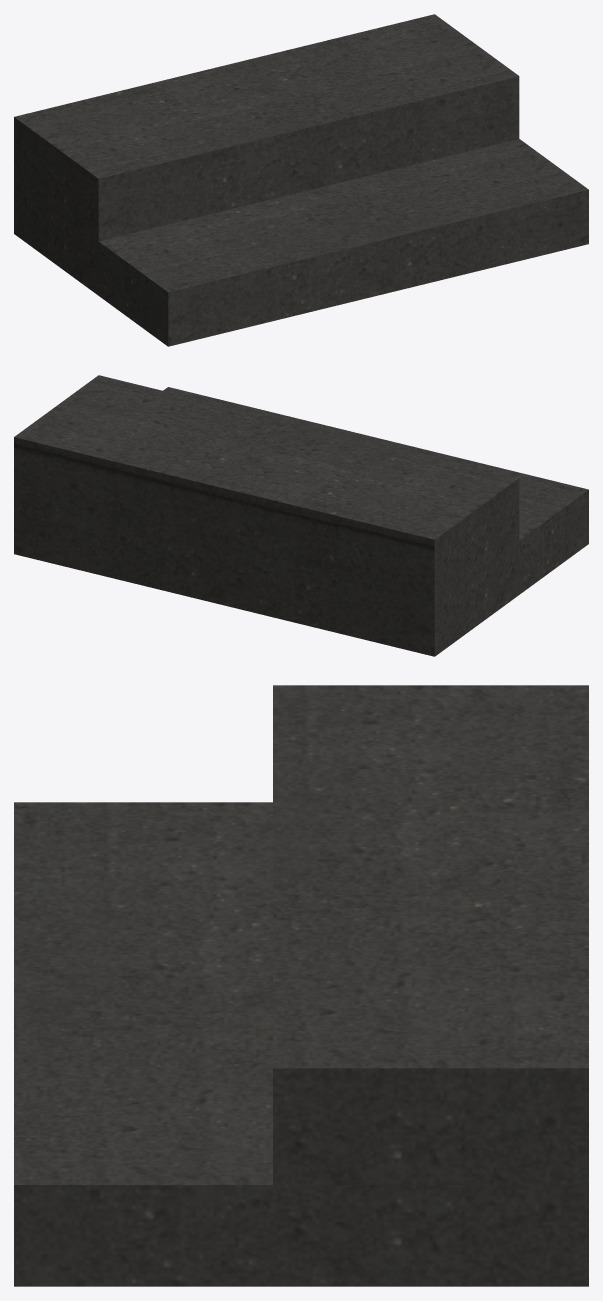
Rendered from House_Demo_002-col.glb.
The picture shows the model from 3 angles, top to bottom: view 1: azimuth 30°, elevation 25°; view 2: azimuth 150°, elevation 25°; view 3: azimuth 270°, elevation 25°; orthographic projection. The views are drawn at different scales.
Parts seen in each view (by area): view 1: House_Demo_002-col; view 2: House_Demo_002-col; view 3: House_Demo_002-col.
Part boxes in pixels (left/top/right/bottom): House_Demo_002-col: left=14, top=14, right=588, bottom=346; House_Demo_002-col: left=14, top=375, right=588, bottom=656; House_Demo_002-col: left=14, top=685, right=588, bottom=1286.
Size of the model in its own units: 1.39 by 0.37 by 0.8837.
1 material, 1 textured.
